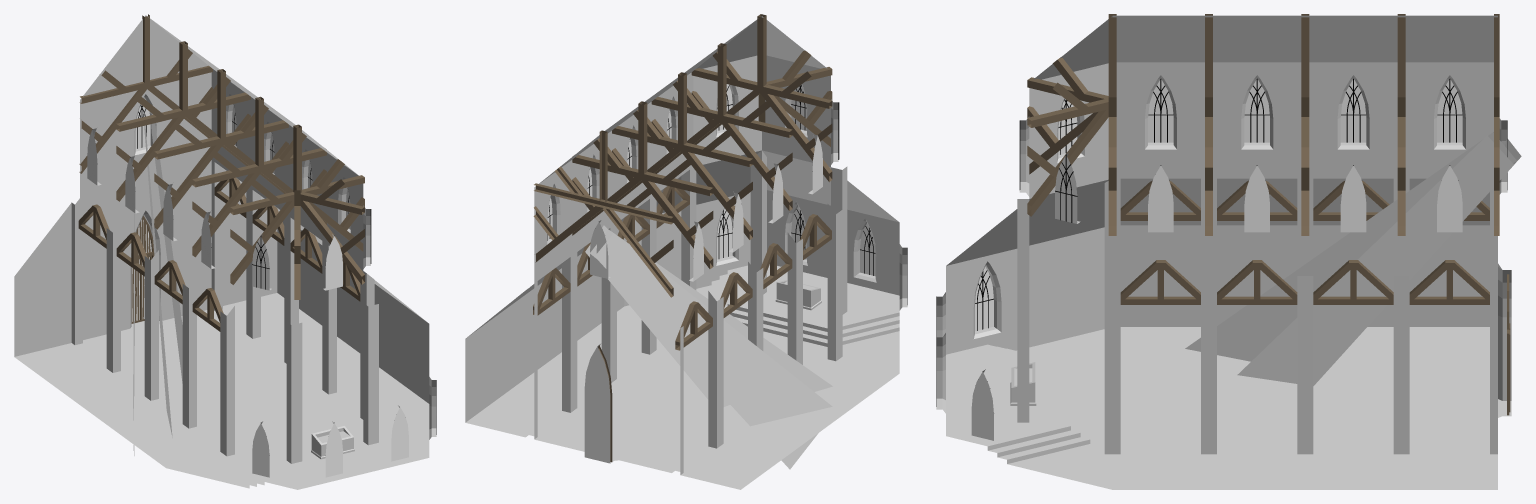
3 views of the same model, side by side, from view 1: azimuth 30°, elevation 25°; view 2: azimuth 150°, elevation 25°; view 3: azimuth 270°, elevation 25° (orthographic). The views are drawn at different scales.
Visible parts, largest first — view 1: BUILDING.001, vigueria, ventanas, sunbeams, door; view 2: BUILDING.001, vigueria, sunbeams, ventanas; view 3: BUILDING.001, vigueria, sunbeams, ventanas.
Part boxes in pixels (x1,y1,x2,y2): BUILDING.001: (14, 15, 436, 489); vigueria: (78, 14, 364, 331); ventanas: (87, 105, 408, 477); sunbeams: (133, 113, 182, 455); door: (131, 215, 154, 323); BUILDING.001: (465, 16, 907, 489); vigueria: (533, 14, 832, 350); sunbeams: (585, 225, 832, 469); ventanas: (547, 84, 875, 463); BUILDING.001: (936, 15, 1511, 489); vigueria: (1027, 14, 1499, 304); sunbeams: (1185, 132, 1521, 385); ventanas: (971, 79, 1462, 440).
Bounding box in the file's own units: 12 × 15.71 × 18.23.
